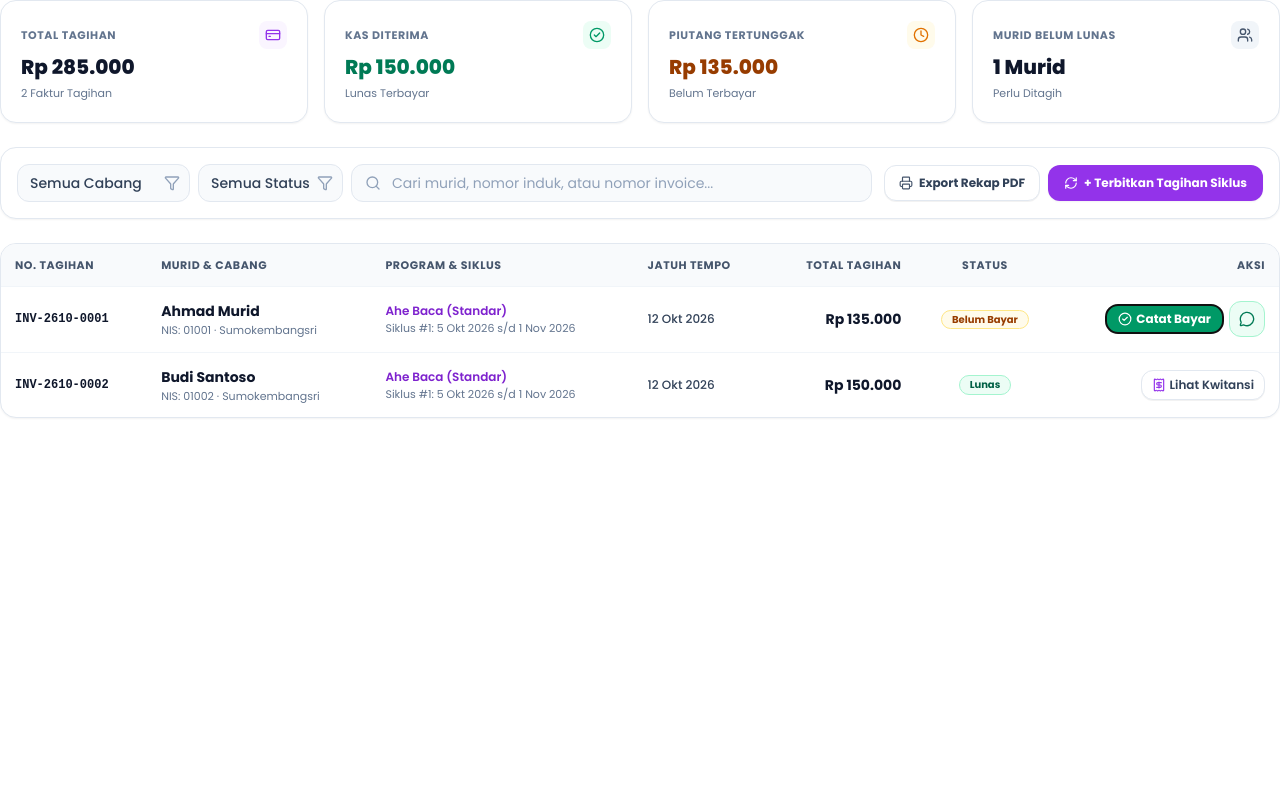
Test: BillingClient Component › returns focus to the invoice payment action when the form is cancelled
This screenshot has width=1280, height=800.
Step 1. Click the button "Catat Bayar" → (1165, 320), box [1106,306,1223,334]
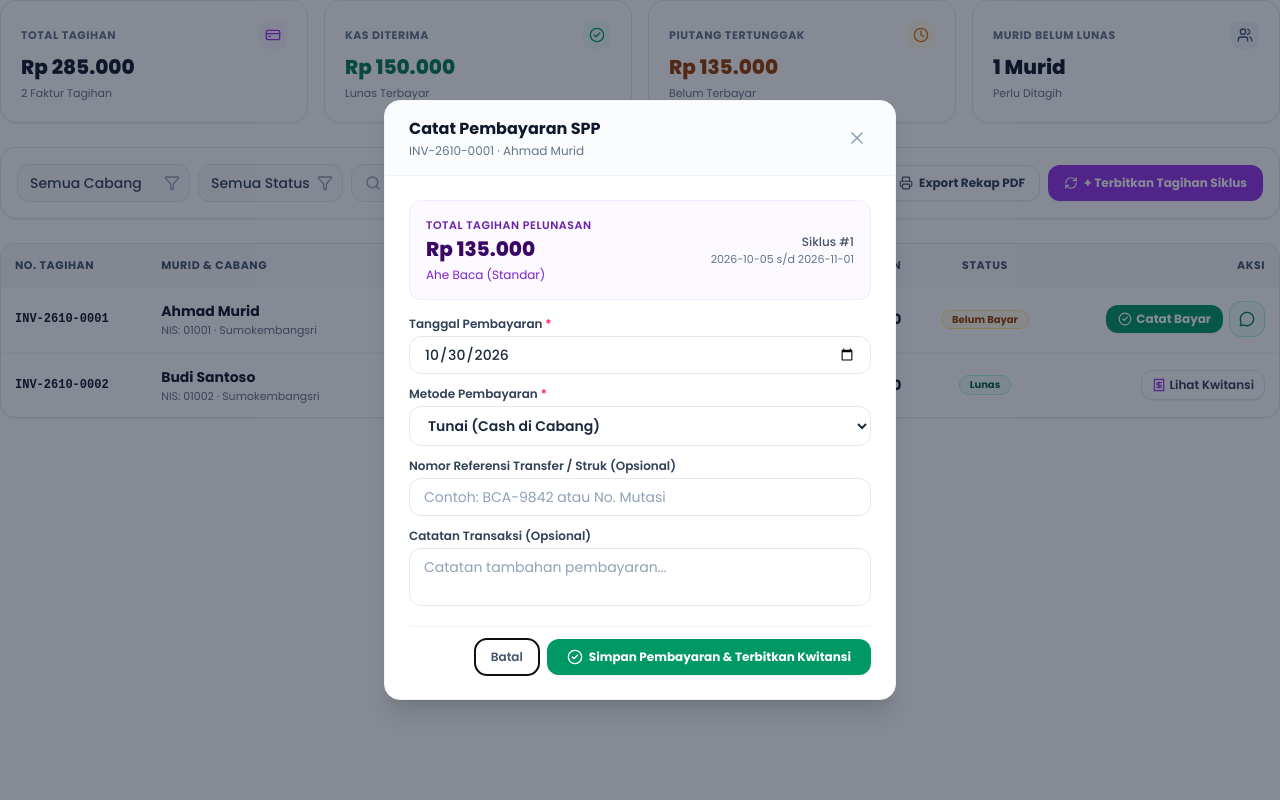
Step 2. Click the button "Batal" → (507, 657), box [475,639,539,675]
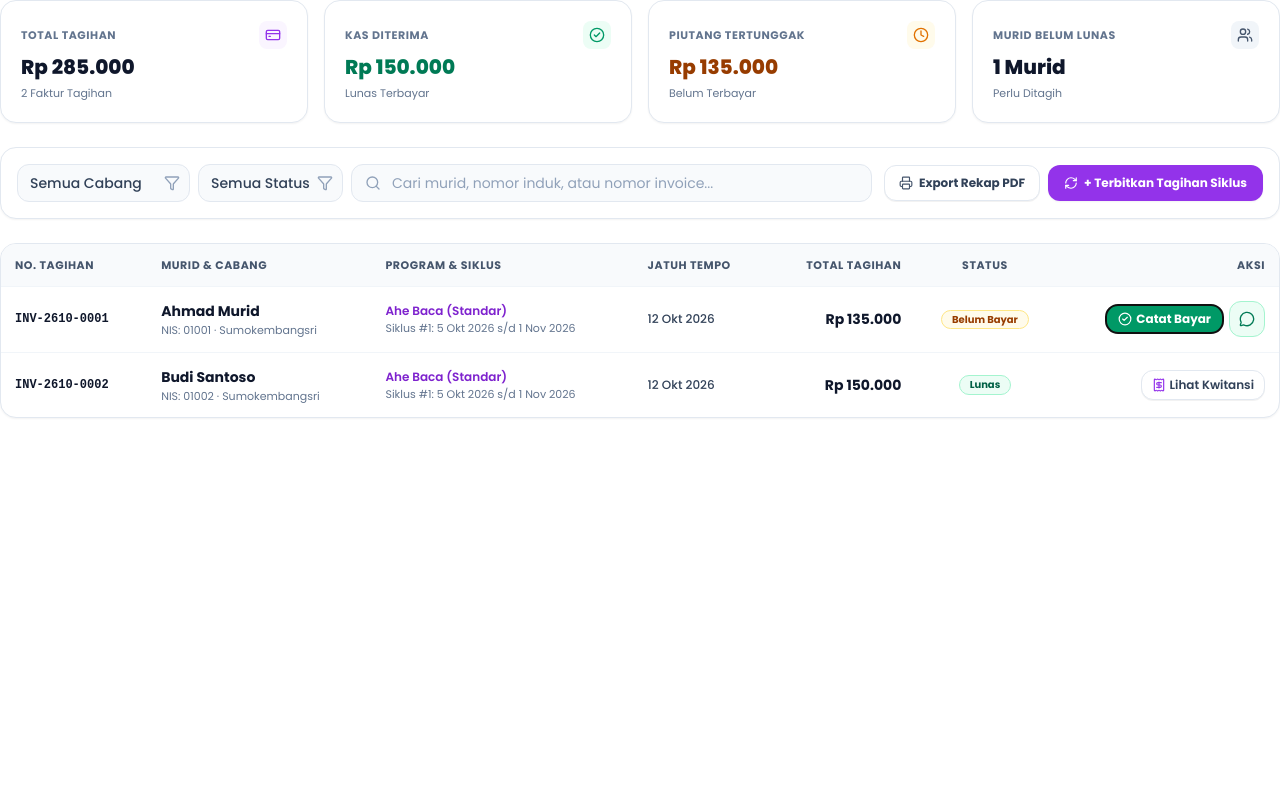
expect the dialog is gone: met
